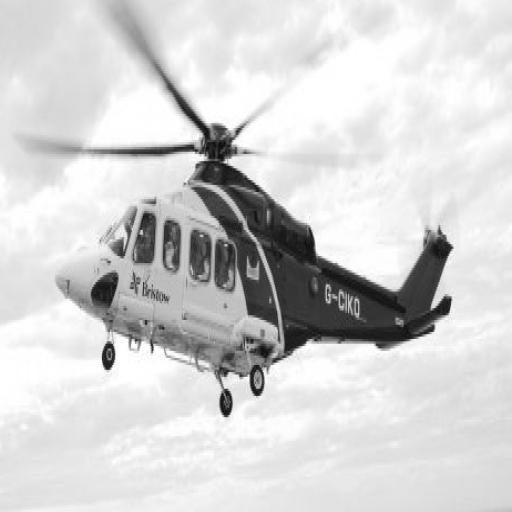helicopter: (37, 18, 476, 433)
